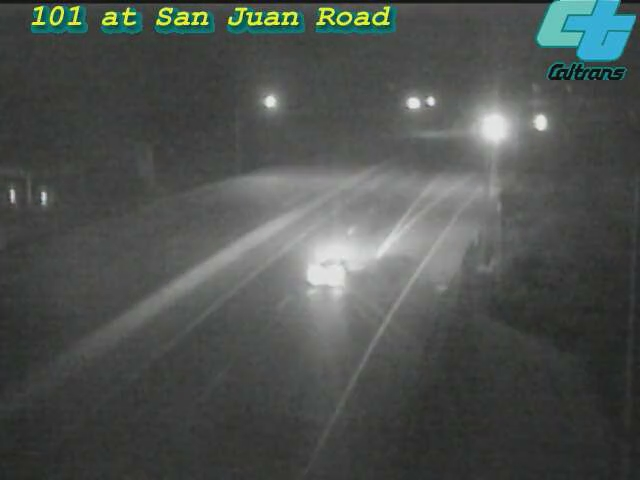vehicle: (293, 230, 373, 310), (467, 102, 517, 152), (515, 97, 565, 147)
